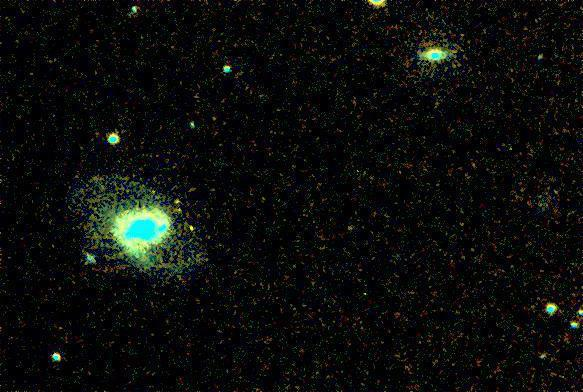star: (159, 187, 189, 217)
